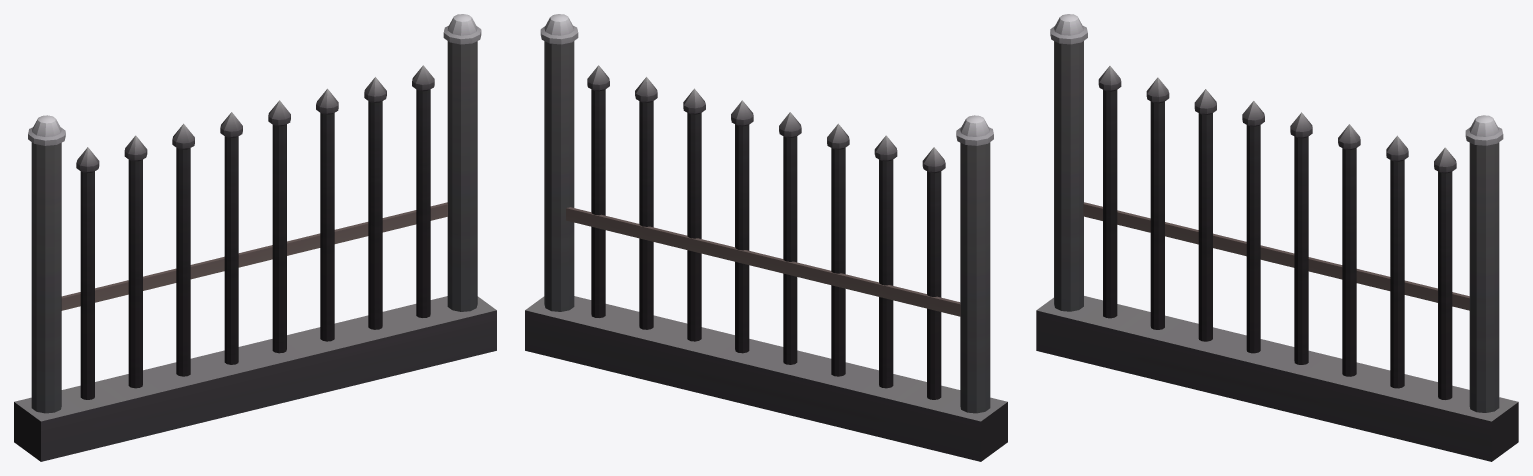
The model's file is SM_Iron_Fence.fbx.
3 renders of one model, left to right at view 1: azimuth 30°, elevation 25°; view 2: azimuth 150°, elevation 25°; view 3: azimuth 330°, elevation 25°, orthographic.
Visible parts, largest first — view 1: SM_Iron_Fence; view 2: SM_Iron_Fence; view 3: SM_Iron_Fence.
Boxes of the visible parts, x1,y1,x2,y2 form: SM_Iron_Fence: [14, 14, 496, 461]; SM_Iron_Fence: [525, 14, 1007, 461]; SM_Iron_Fence: [1036, 14, 1518, 461].
Size of the model in its own units: 426 by 294 by 43.63.
